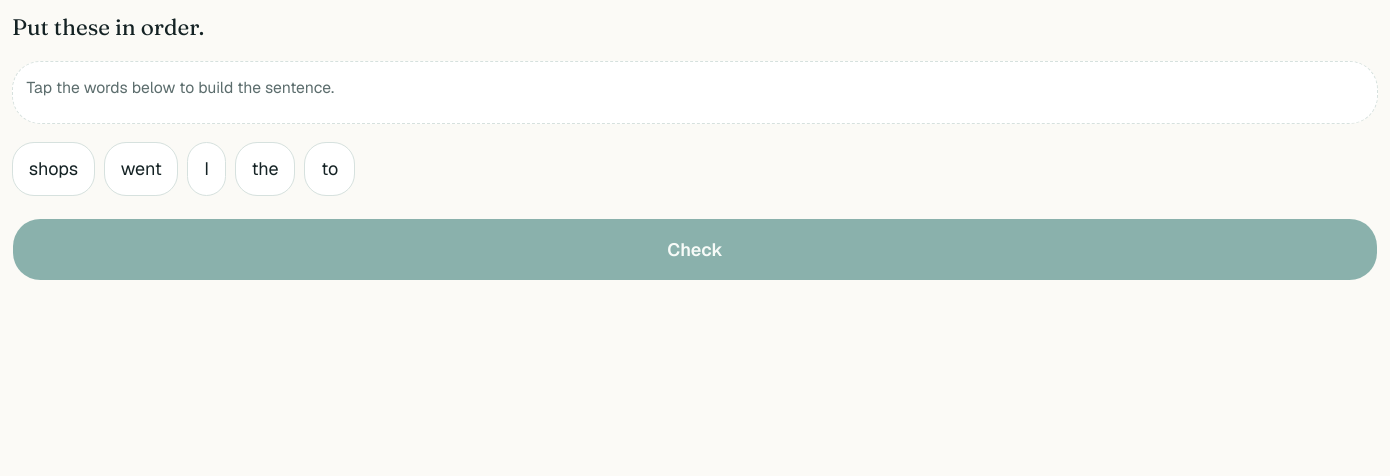
Test: word_bank_order shows the correct order on the wrong path › renders the answer as ordered tokens, not only as a sentence
Click the button "shops" at (54,169), box [12,142,95,196]
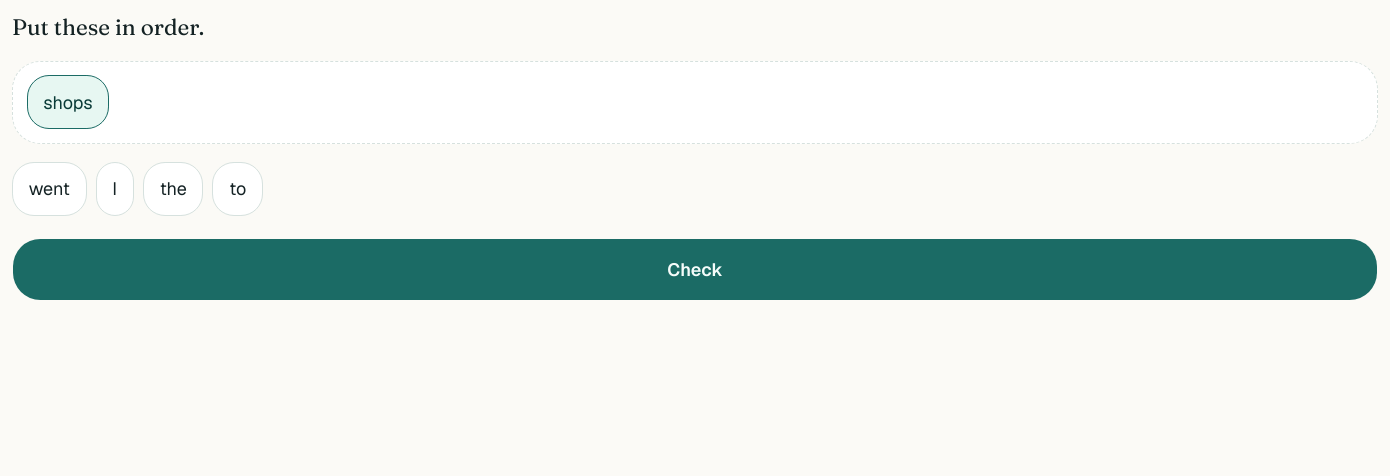
Click the button "Check" at (695,270), box [12,238,1378,301]
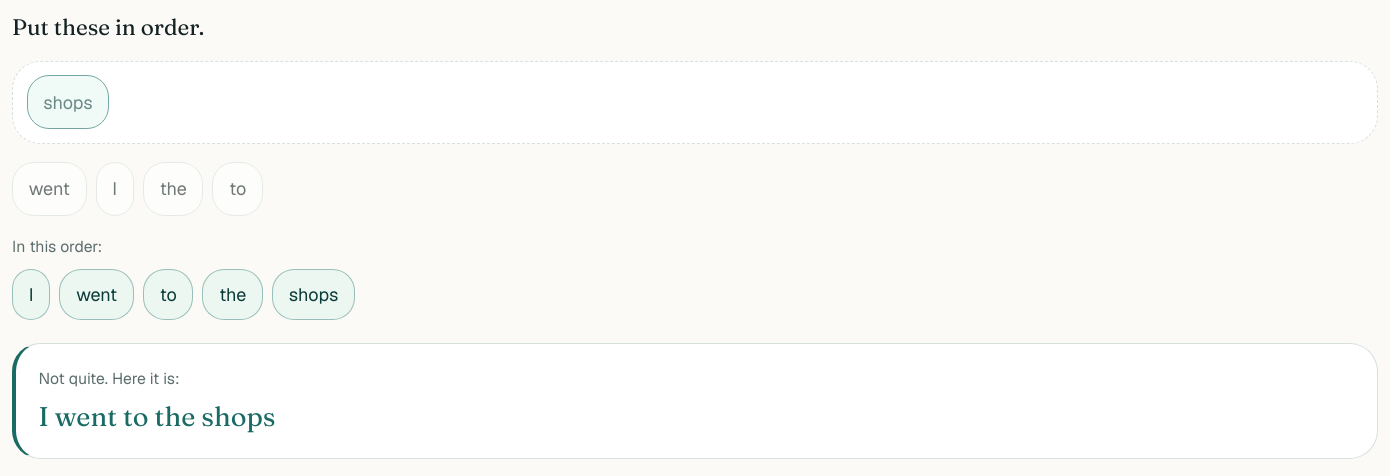
Expected: the element with test id "word-bank-answer" shows "In this order:", [12,236,102,257]
Expected: the text "I" is shown, [12,268,50,320]
Expected: the text "went" is shown, [59,268,134,320]
